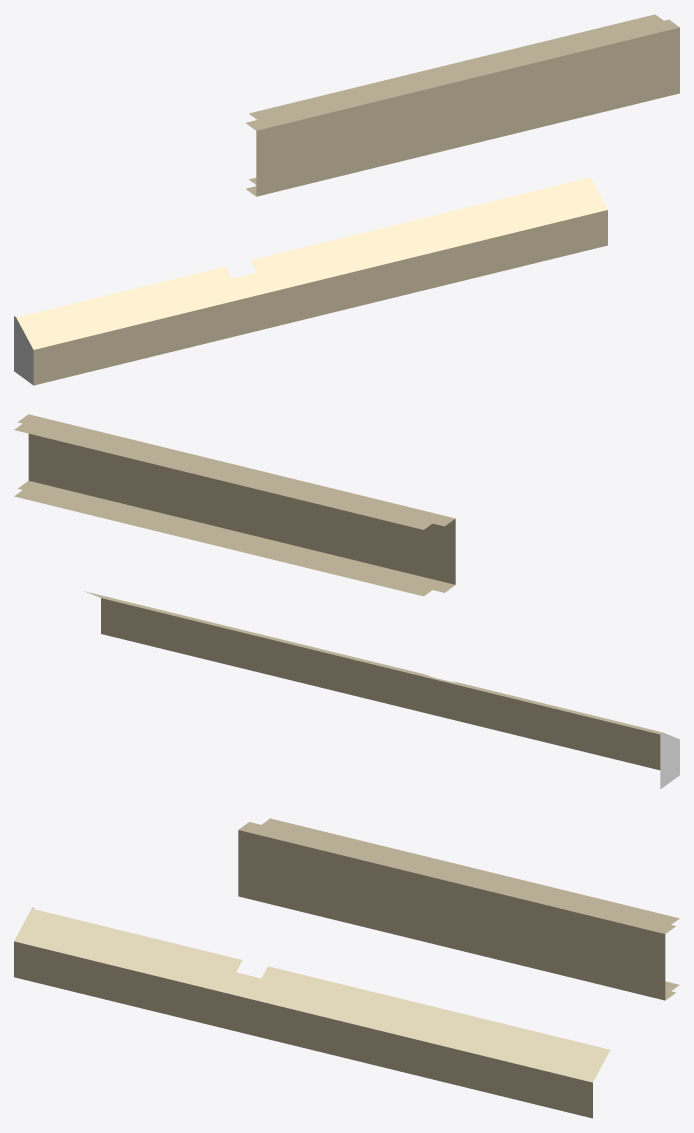
Rendered from southwall2.FBX.
The picture shows the model from 3 angles, top to bottom: view 1: azimuth 30°, elevation 25°; view 2: azimuth 150°, elevation 25°; view 3: azimuth 330°, elevation 25°; orthographic projection.
Visible parts, largest first — view 1: southwall; view 2: southwall; view 3: southwall.
Boxes of the visible parts, bbox=[...] form: southwall: bbox=[14, 14, 679, 385]; southwall: bbox=[14, 414, 679, 789]; southwall: bbox=[14, 818, 679, 1118].
Size of the model in its own units: 1303 by 386 by 68.67.
